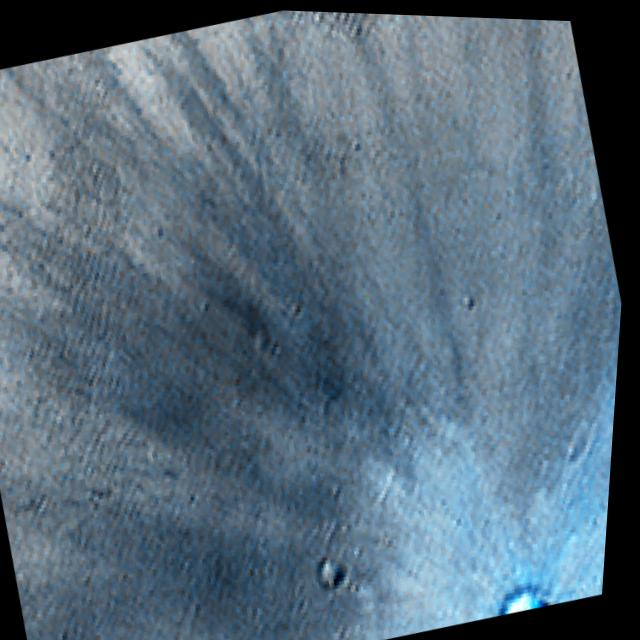Crater: (470, 534, 583, 619), (308, 530, 373, 605)
